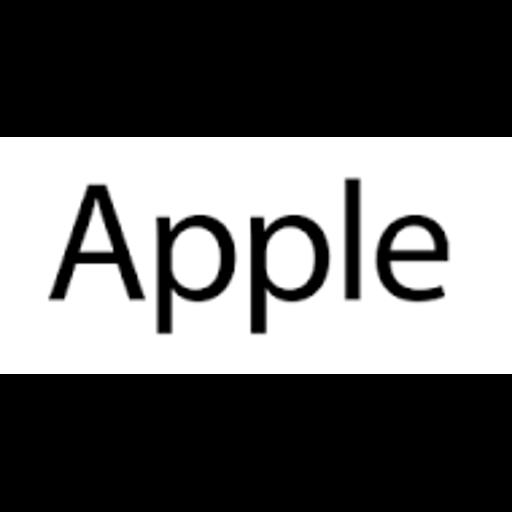Apple: (0, 137, 512, 374)
